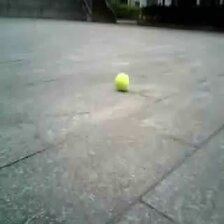tennis: (115, 74, 129, 90)
